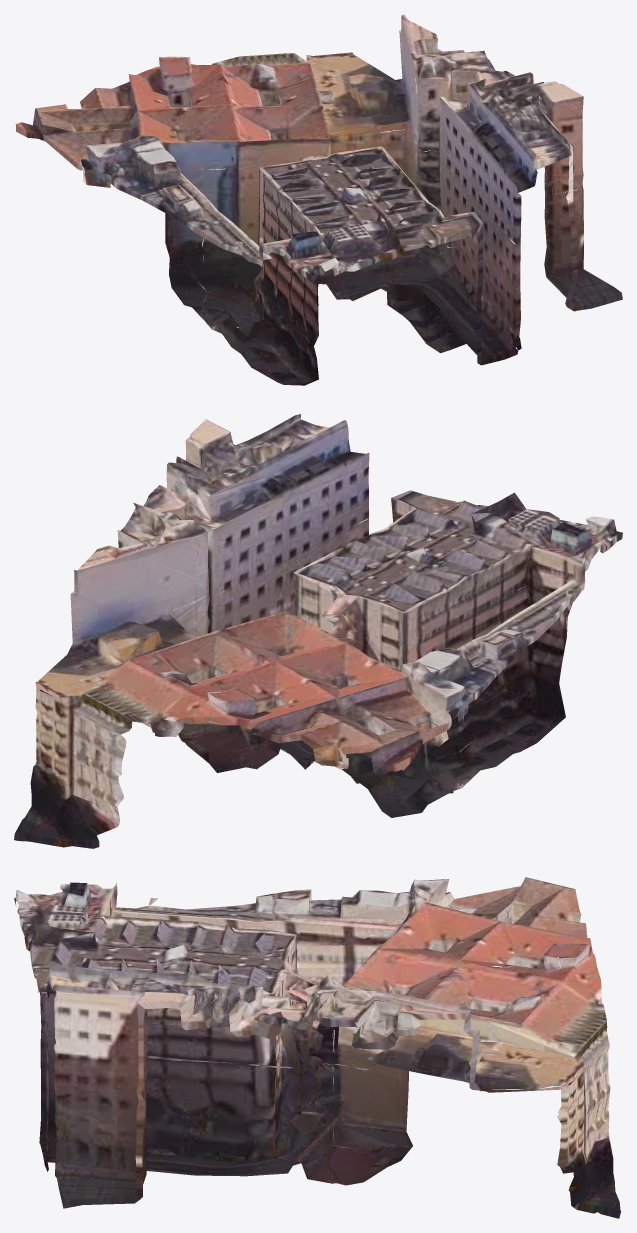
3 renders of one model, top to bottom at view 1: azimuth 30°, elevation 25°; view 2: azimuth 150°, elevation 25°; view 3: azimuth 270°, elevation 25°, orthographic. The views are drawn at different scales.
Parts seen in each view (by area): view 1: Mesh_0; view 2: Mesh_0; view 3: Mesh_0.
Part boxes in pixels (box(x1,y1,x2,y2)): Mesh_0: box(15, 14, 622, 385); Mesh_0: box(14, 414, 622, 848); Mesh_0: box(14, 877, 620, 1218).
Size of the model in its own units: 66.86 by 37.49 by 82.77.
1 material, 1 textured.
